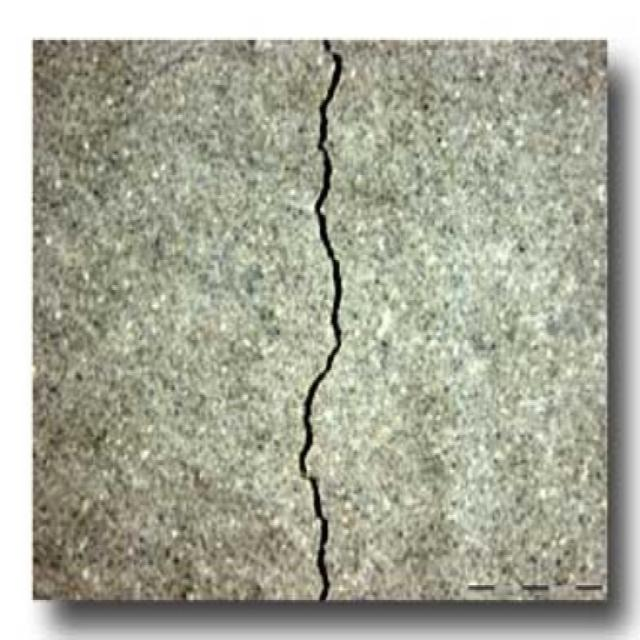crack: (297, 42, 347, 600)
